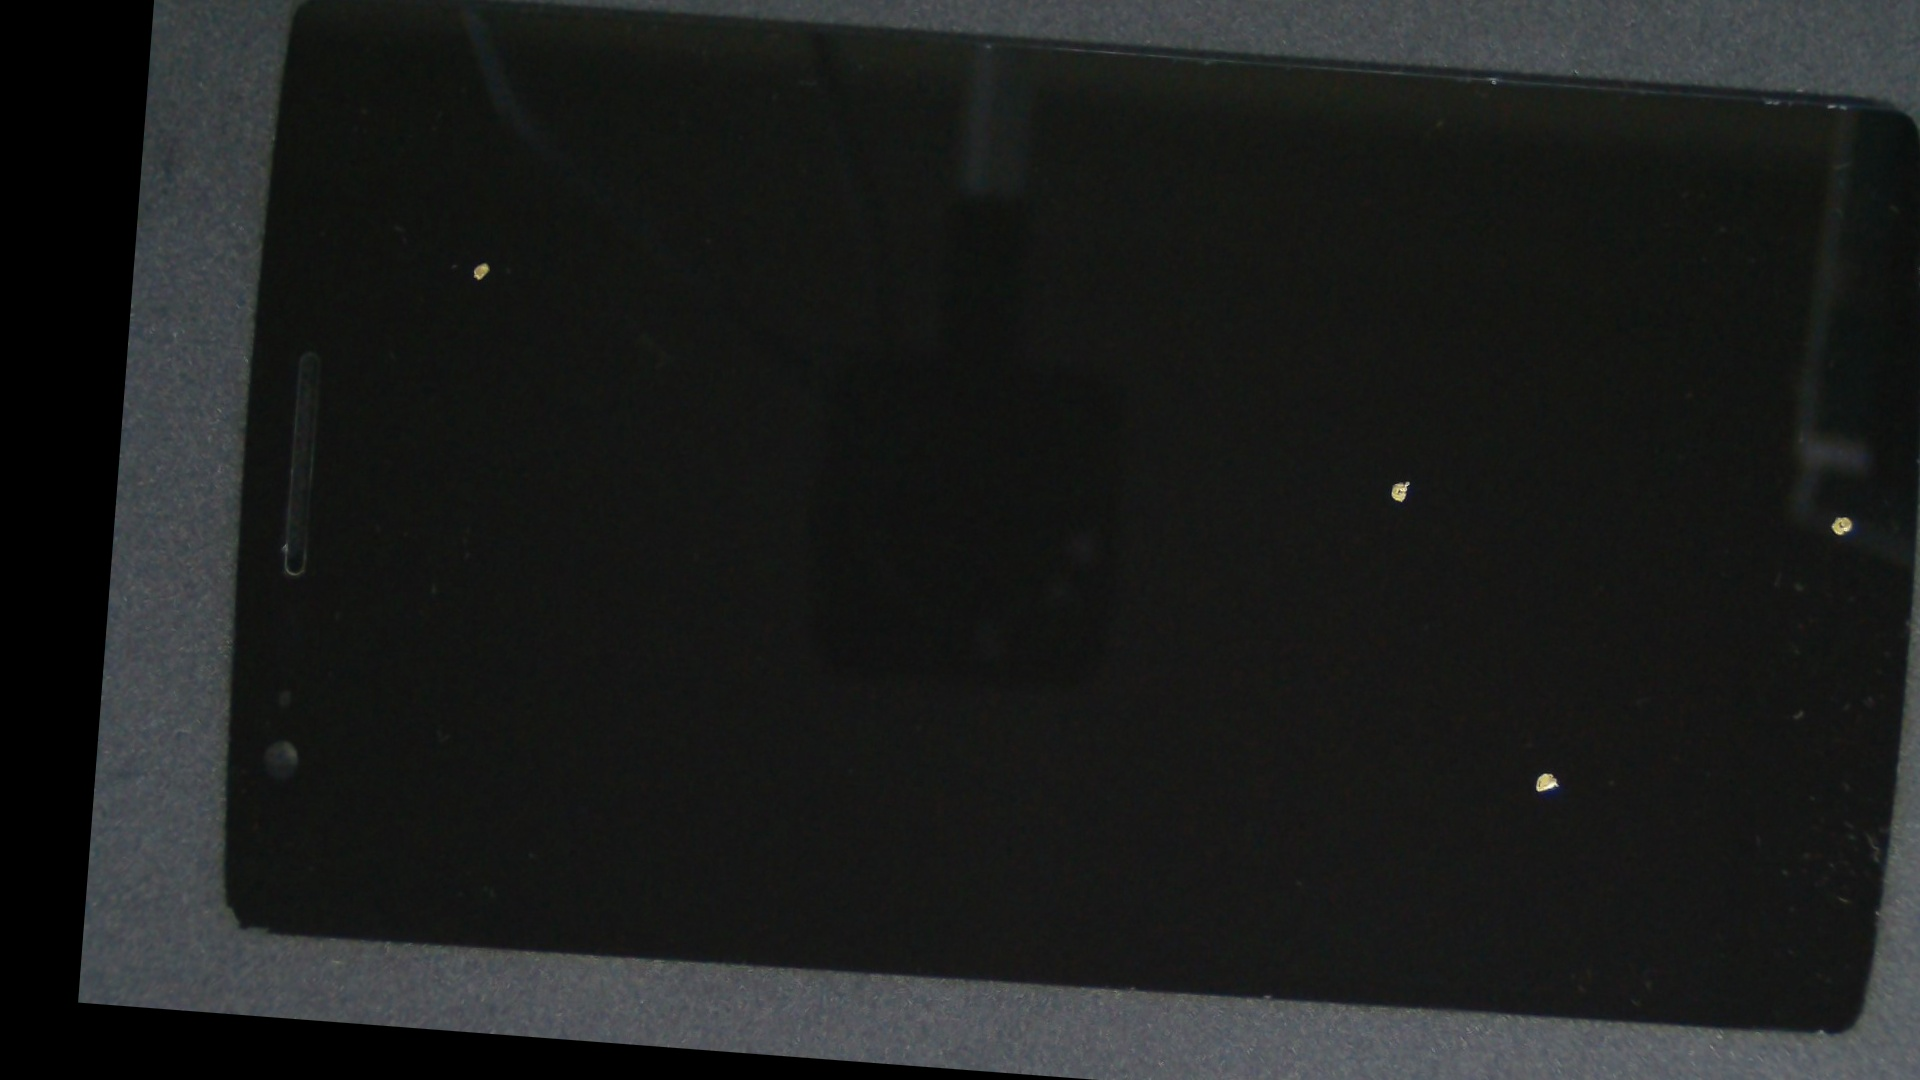oil: (803, 301, 1920, 1080), (744, 156, 1920, 799), (965, 174, 1920, 800), (297, 46, 676, 475)
